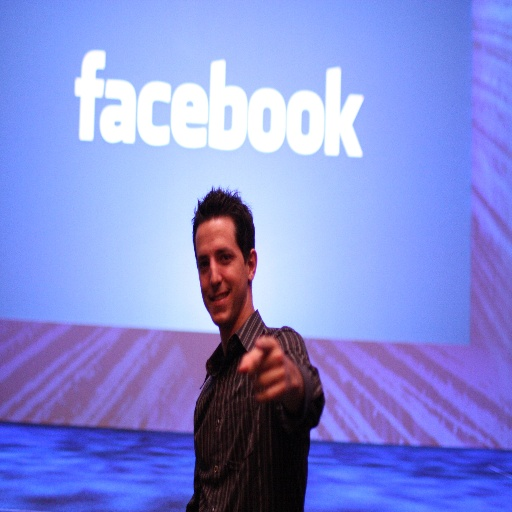hand: (239, 326, 310, 442)
